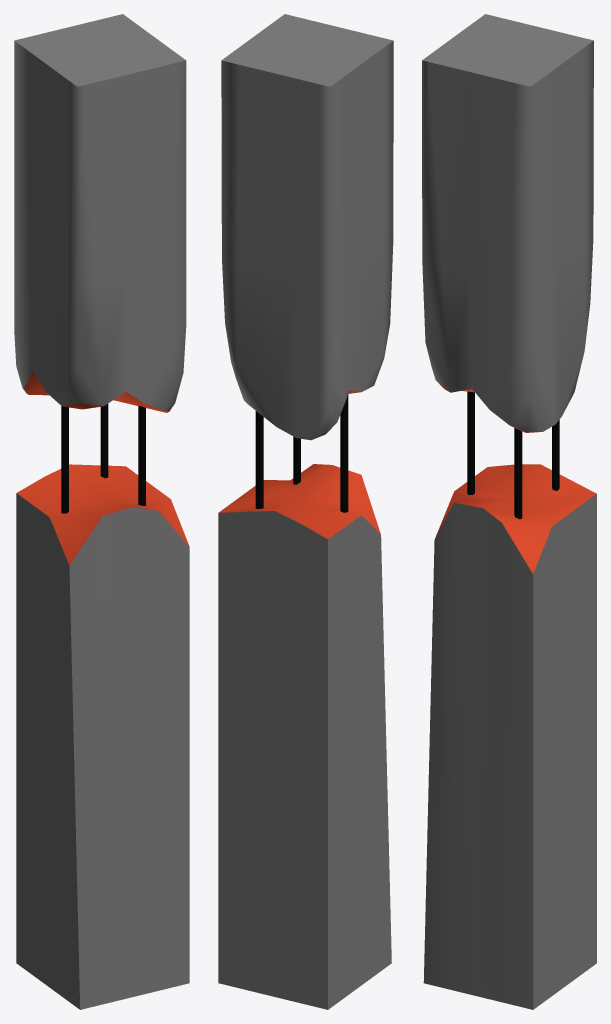
Rendered from pilier 1.fbx.
3 renders of one model, left to right at view 1: azimuth 30°, elevation 25°; view 2: azimuth 150°, elevation 25°; view 3: azimuth 330°, elevation 25°, orthographic.
Visible parts, largest first — view 1: Box003; view 2: Box003; view 3: Box003.
Boxes of the visible parts, box(x1,y1,x2,y2) form: Box003: box(14, 14, 189, 1009); Box003: box(218, 14, 393, 1009); Box003: box(422, 14, 596, 1009).
Size of the model in its own units: 61.33 by 484 by 60.7.
